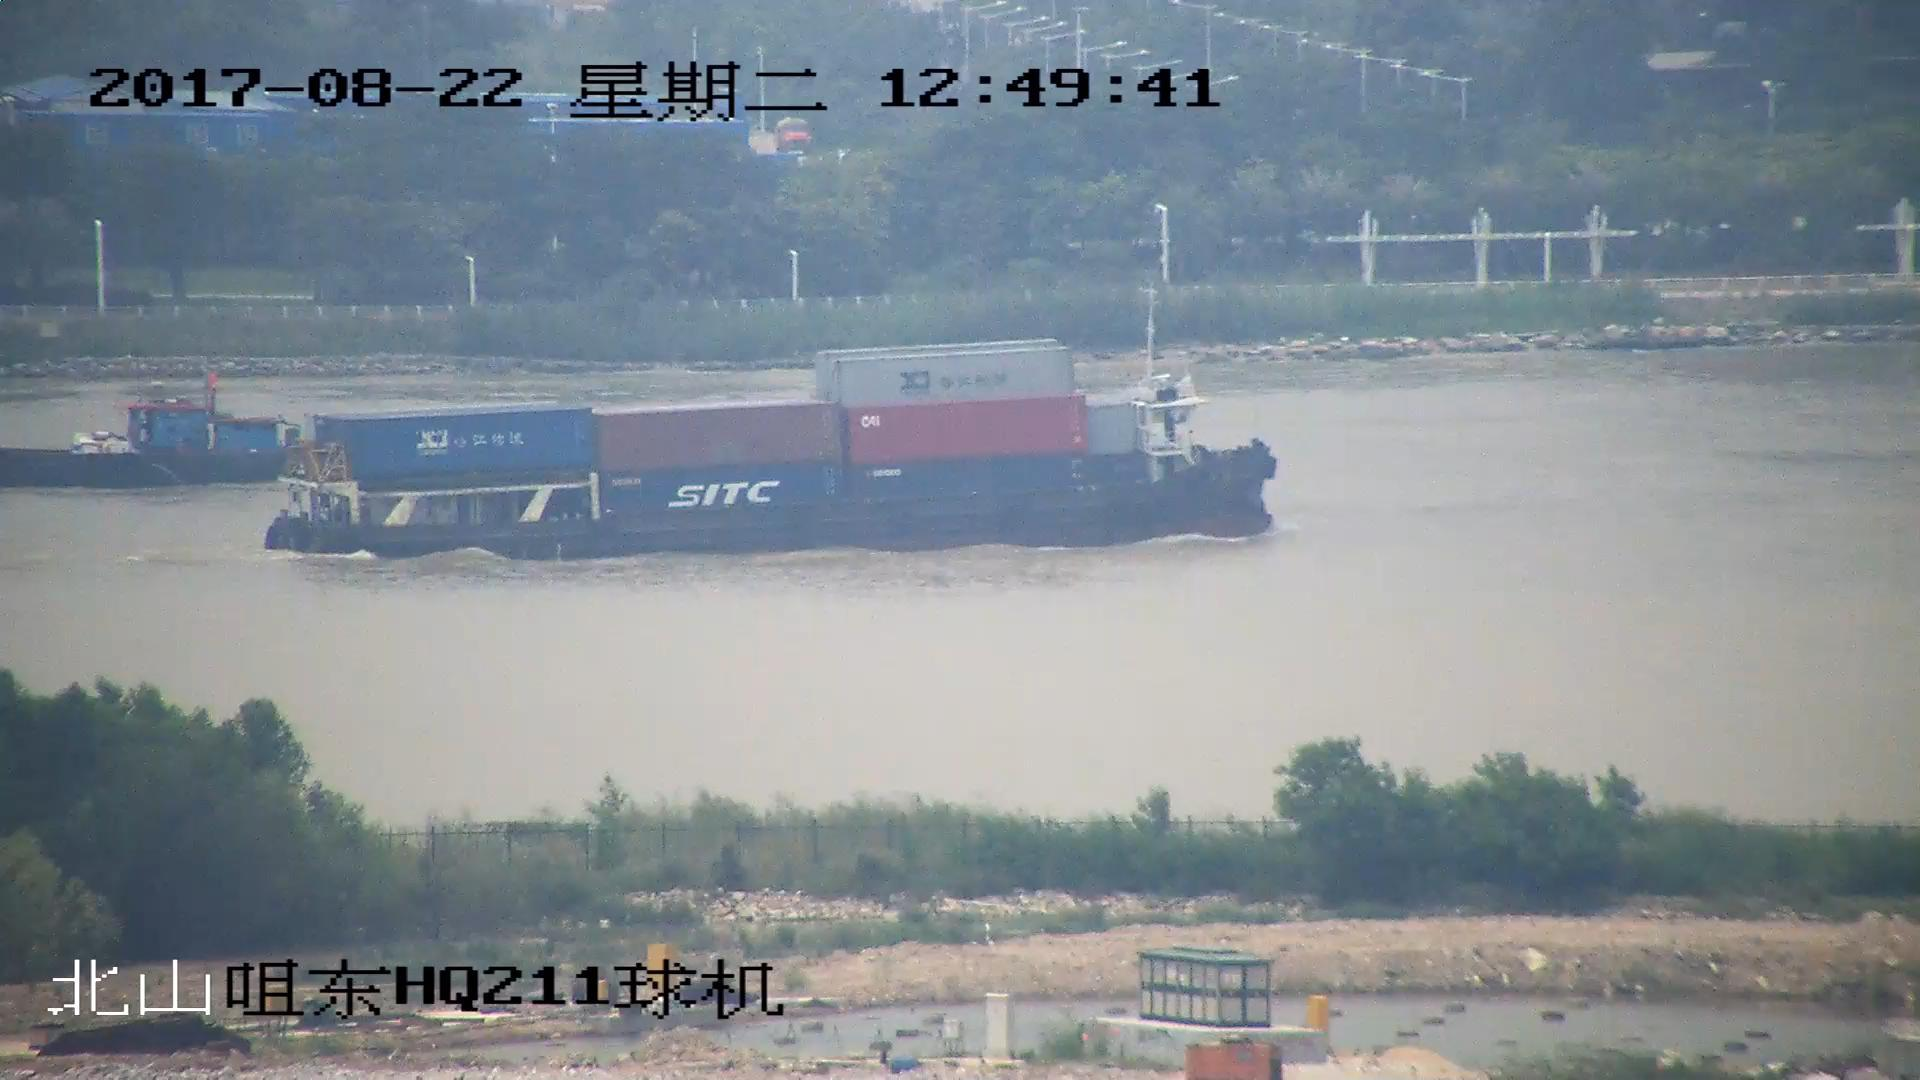Ship: (262, 338, 1284, 560), (3, 378, 291, 487)
